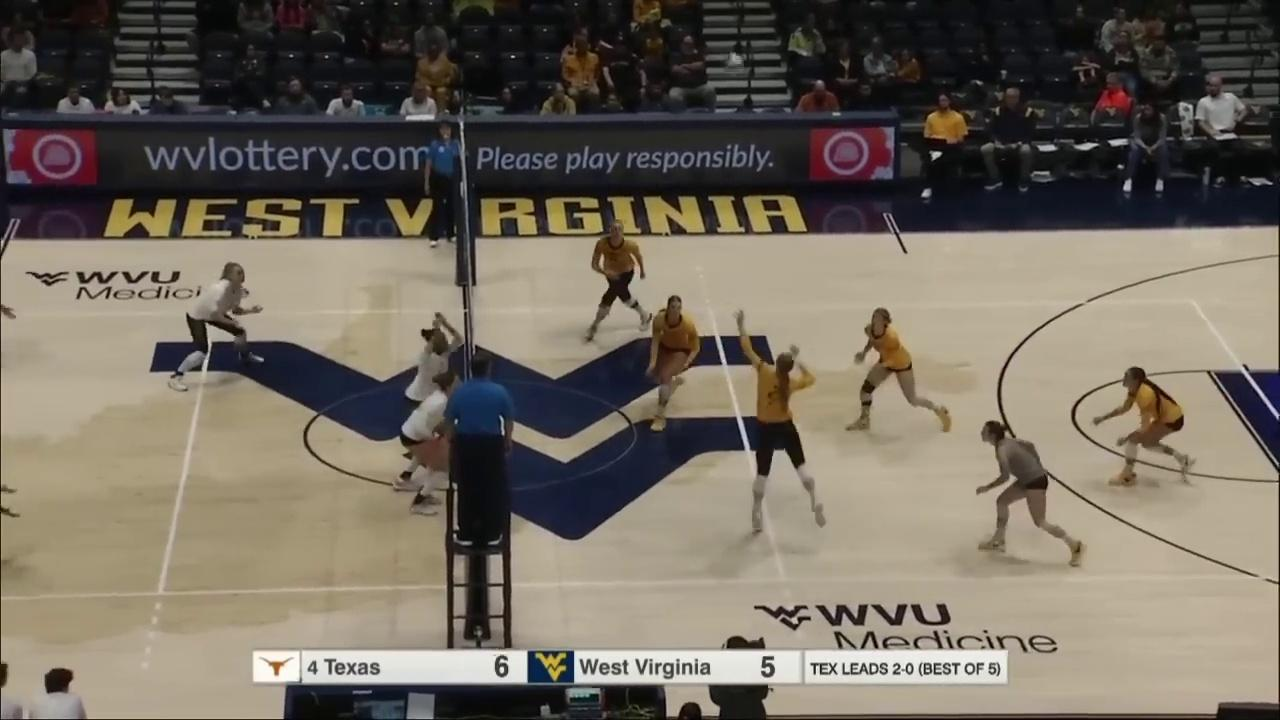player: (735, 316, 829, 542), (968, 420, 1089, 567), (168, 255, 269, 392), (845, 310, 953, 435), (1090, 367, 1194, 485), (397, 365, 466, 520), (402, 317, 470, 456), (582, 213, 653, 346), (647, 290, 705, 437)
refree: (440, 348, 525, 550), (256, 651, 414, 720), (419, 116, 467, 251)
